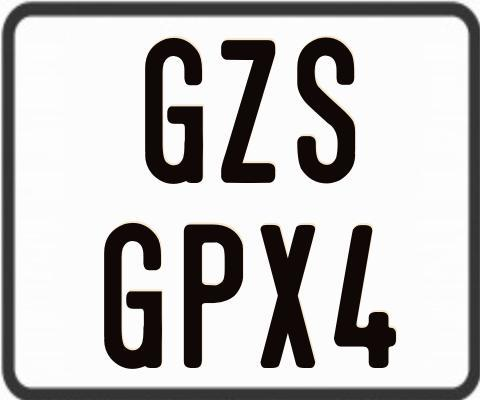4: (331, 224, 393, 369)
G: (103, 223, 166, 371), (144, 35, 204, 181)
P: (184, 222, 247, 370)
S: (294, 37, 357, 185)
X: (259, 224, 315, 368)
Z: (220, 38, 280, 184)
